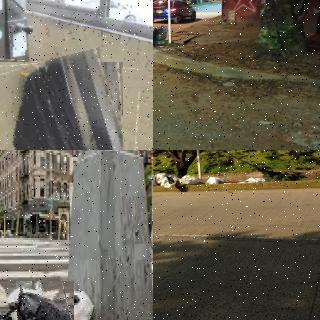Garbage: (0, 54, 132, 150), (11, 278, 80, 320), (180, 175, 205, 186), (153, 24, 168, 41), (206, 176, 233, 185), (153, 174, 157, 187)
